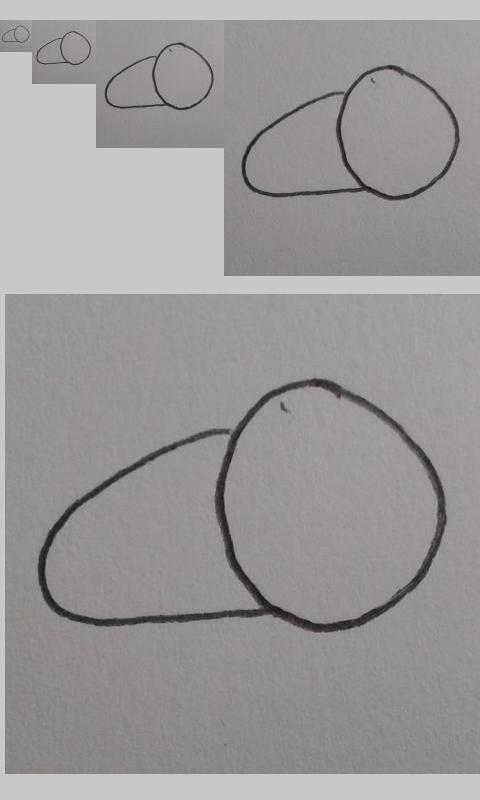switch: (36, 378, 452, 634), (241, 64, 461, 201), (103, 41, 215, 111), (36, 30, 92, 66), (1, 24, 30, 43)
